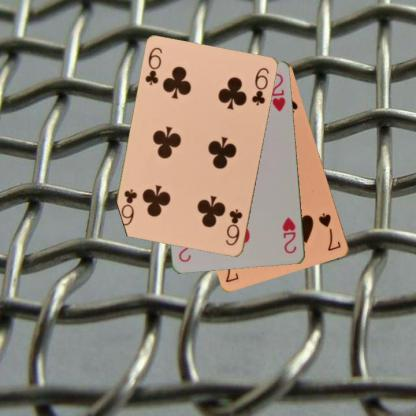2h: (280, 214, 298, 256)
6c: (142, 44, 164, 87), (223, 206, 244, 247)
7s: (316, 210, 343, 252)
